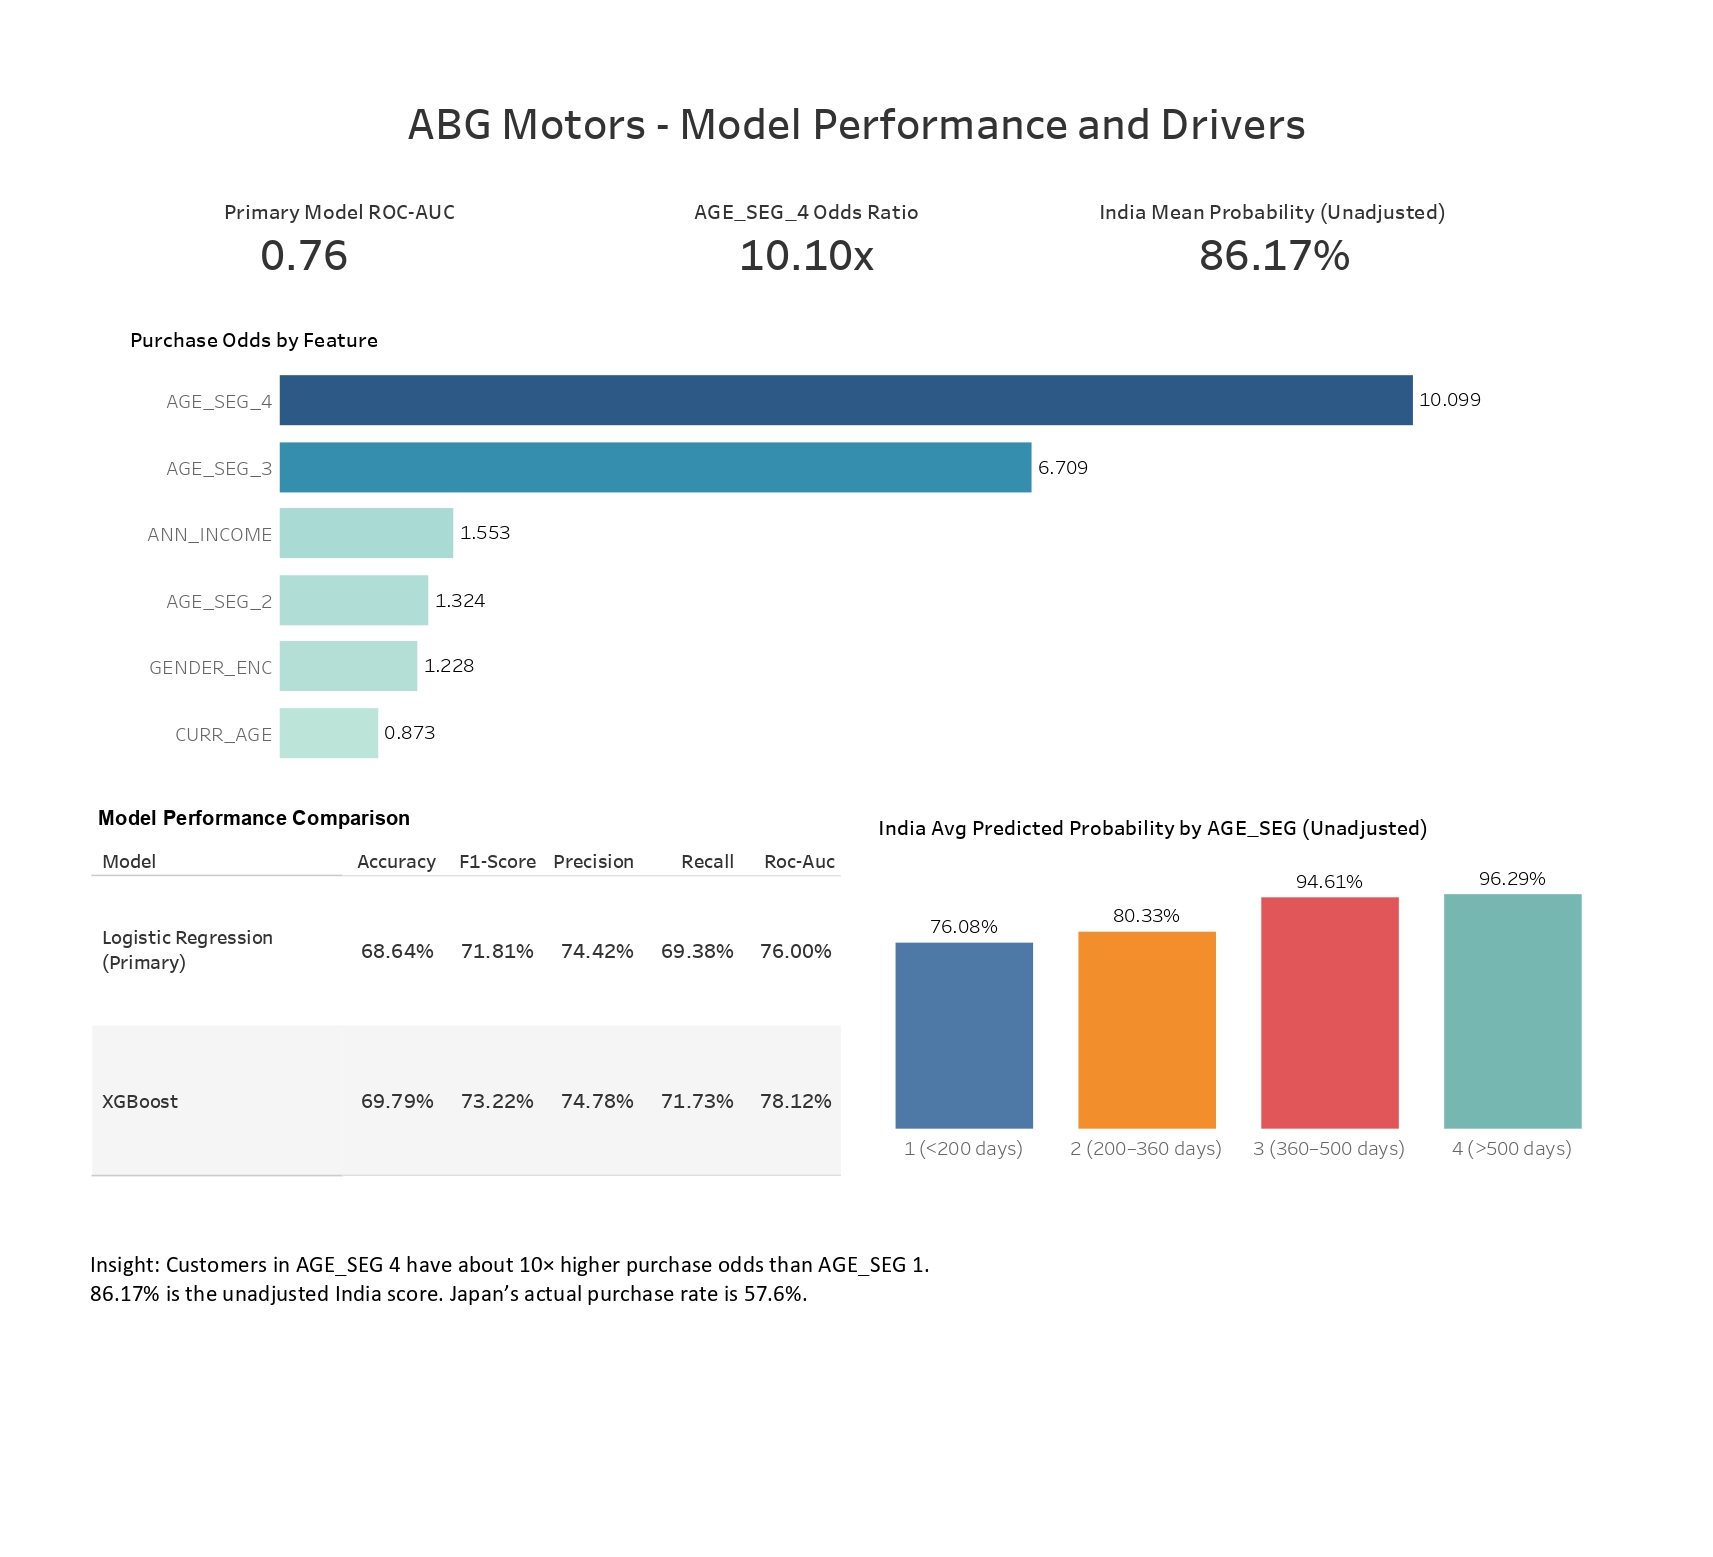

Layout of this report page (visuals, bound fields, positions):
{"tool":"tableau","page":{"name":"Dashboard 2","canvas":[1000,900],"ordinal":1},"visuals":[{"type":"title","box":[8,8,984,45.1]},{"type":"worksheet","title":"KPIs-2","mark":"Text","cols":["Calculation_0177059634077706","Calculation_0177059634077706","Calculation_0177059634077706"],"box":[20,66,896,79]},{"type":"worksheet","title":"Viz_Odds_Ratio","mark":"Bar","rows":["Feature"],"cols":["Odds Ratio"],"box":[31,154,909,288]},{"type":"worksheet","title":"Viz_Model_Metrics","mark":"Automatic","rows":["Model"],"box":[11,462,480,243]},{"type":"worksheet","title":"Viz_Prob_by_AGE_SEG","mark":"Automatic","rows":["proba_logreg"],"cols":["Calculation_0177059596951553"],"box":[510,466,468,248]},{"type":"text","box":[7,738,970,65]}]}

Visuals, with their boxes in screenshot pixels (x1, y1, x2, y2), scaled from the page's 1000x900 canvas onto the 1713x1557 screenshot:
title: bbox(14, 14, 1699, 92)
"KPIs-2" worksheet (Text marks): bbox(34, 114, 1569, 251)
"Viz_Odds_Ratio" worksheet (Bar marks): bbox(53, 266, 1610, 765)
"Viz_Model_Metrics" worksheet: bbox(19, 799, 841, 1220)
"Viz_Prob_by_AGE_SEG" worksheet: bbox(874, 806, 1675, 1235)
text: bbox(12, 1277, 1674, 1389)
